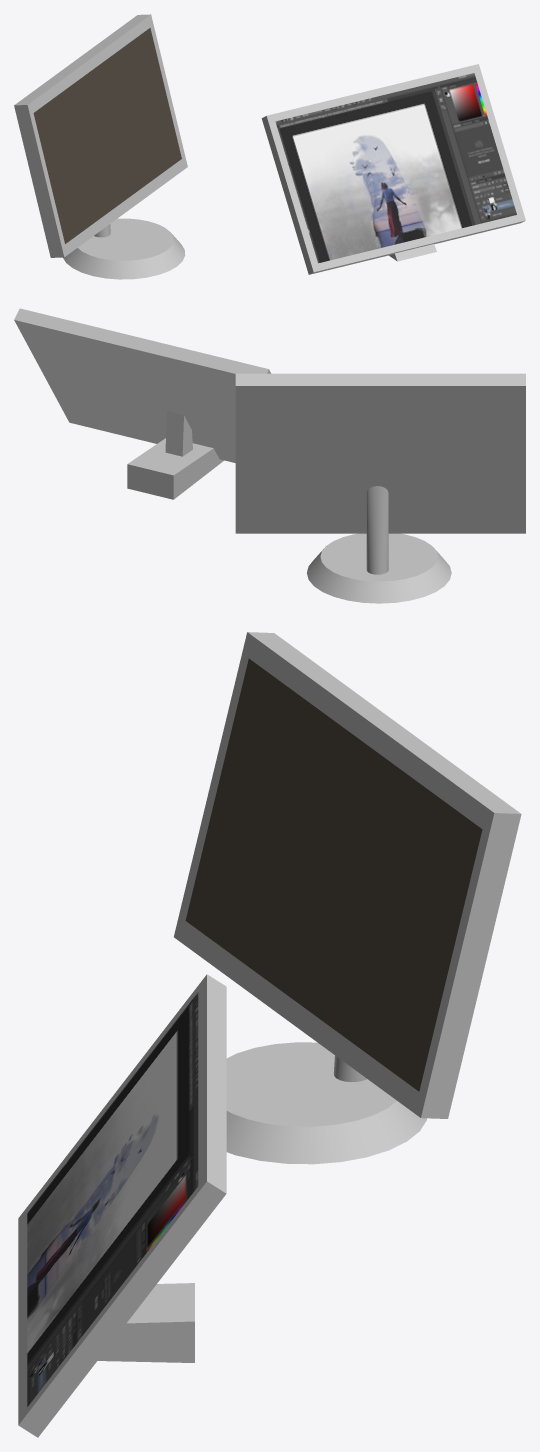
Rendered from computer.fbx.
3 views of the same model, one above another, from view 1: azimuth 30°, elevation 25°; view 2: azimuth 150°, elevation 25°; view 3: azimuth 270°, elevation 25° (orthographic). The views are drawn at different scales.
Parts seen in each view (by area): view 1: Box040, Object013; view 2: Object013, Box040; view 3: Object013, Box040.
Part boxes in pixels (x1,y1,x2,y2): Box040: (261, 64, 525, 274); Object013: (14, 14, 187, 279); Object013: (235, 373, 525, 603); Box040: (14, 308, 271, 499); Object013: (174, 632, 521, 1164); Box040: (18, 974, 226, 1437).
Size of the model in its own units: 134 by 55.12 by 64.98.
